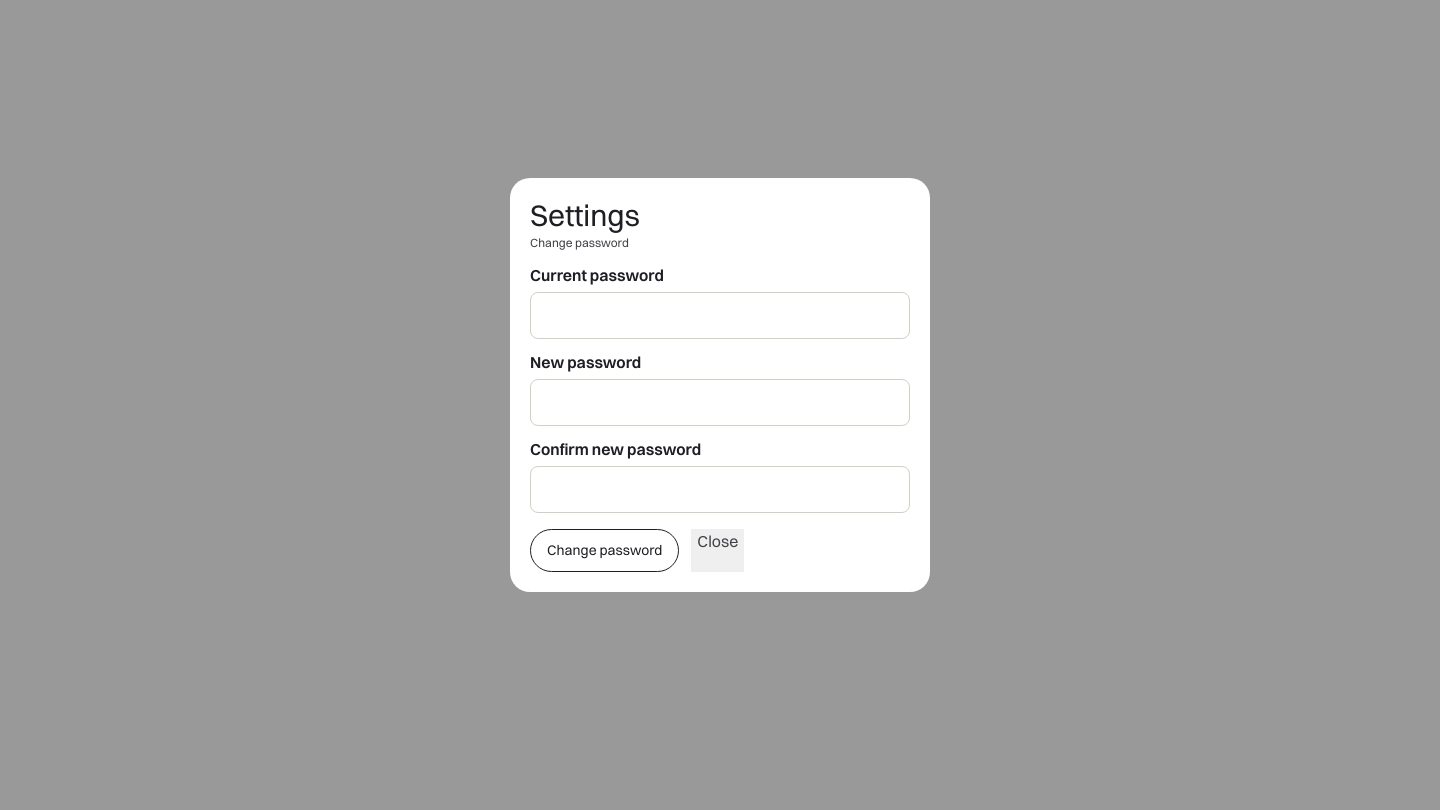
Test case: Settings — change password › confirms success
Type "old-pass" into the password field labelled "Current password" at (720, 315), box [530,292,910,339]
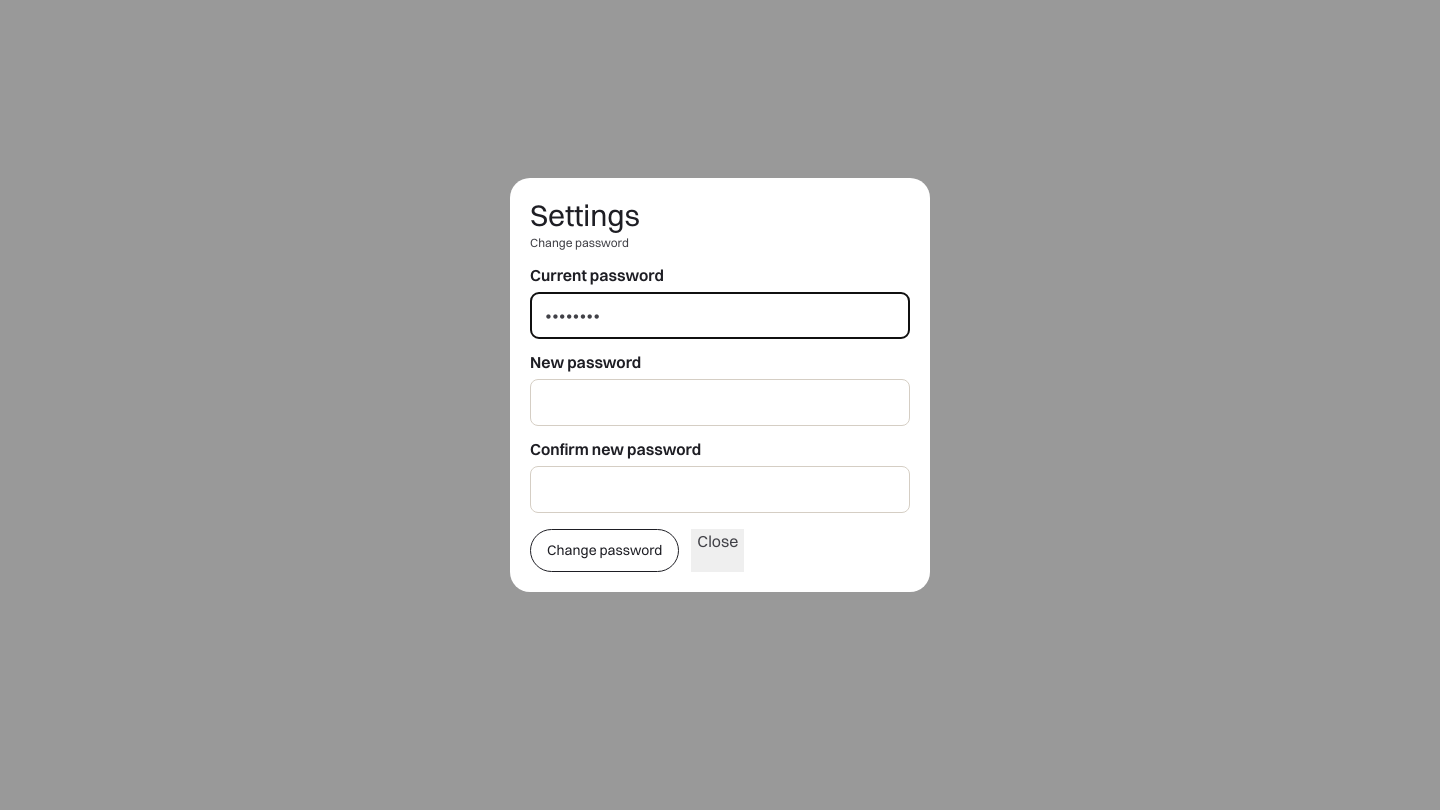
Type "brand new password" into the password field labelled "New password" at (720, 402), box [530,379,910,426]
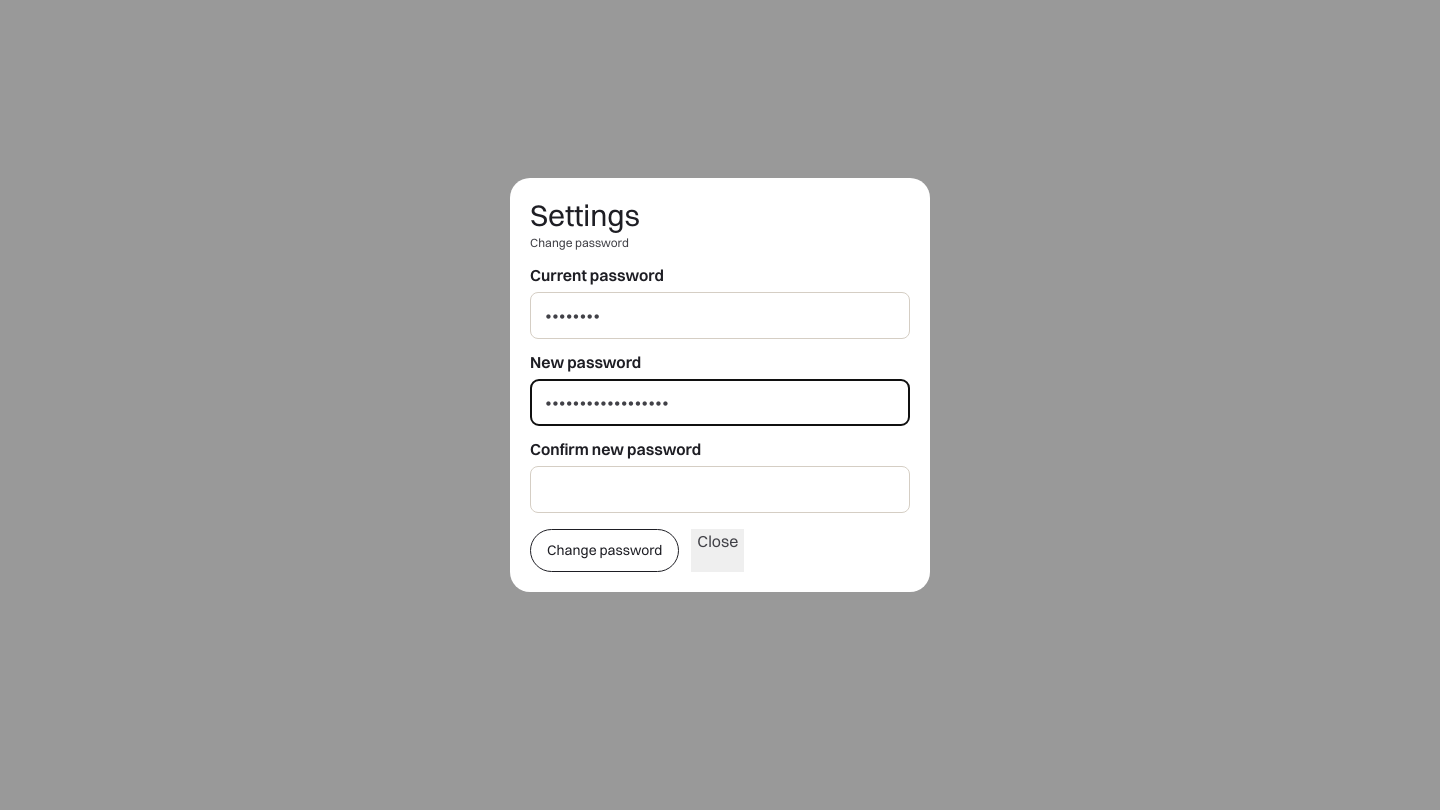
Type "brand new password" into the password field labelled "Confirm new password" at (720, 489), box [530,466,910,513]
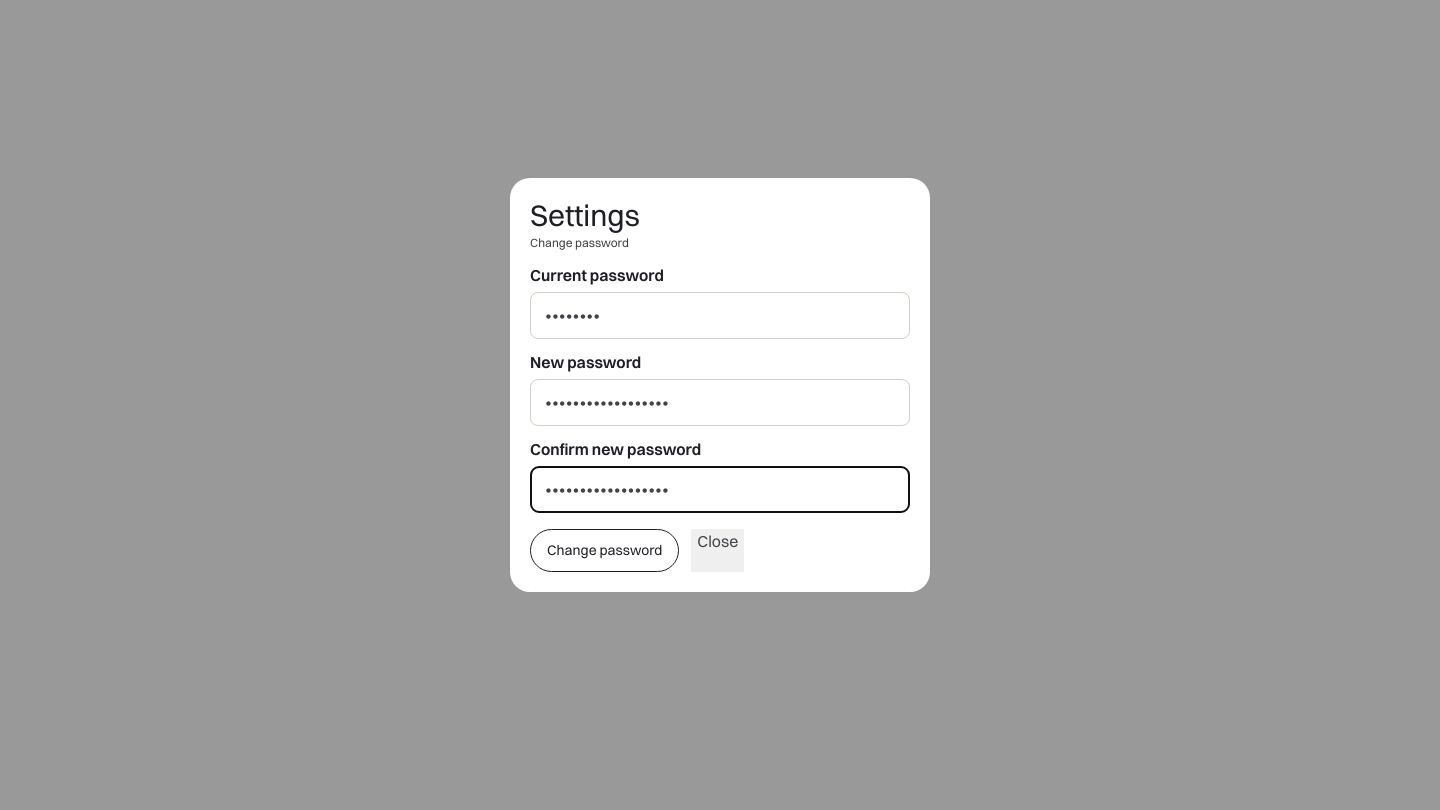
Click the button "Change password" at (605, 551), box [530,529,679,572]
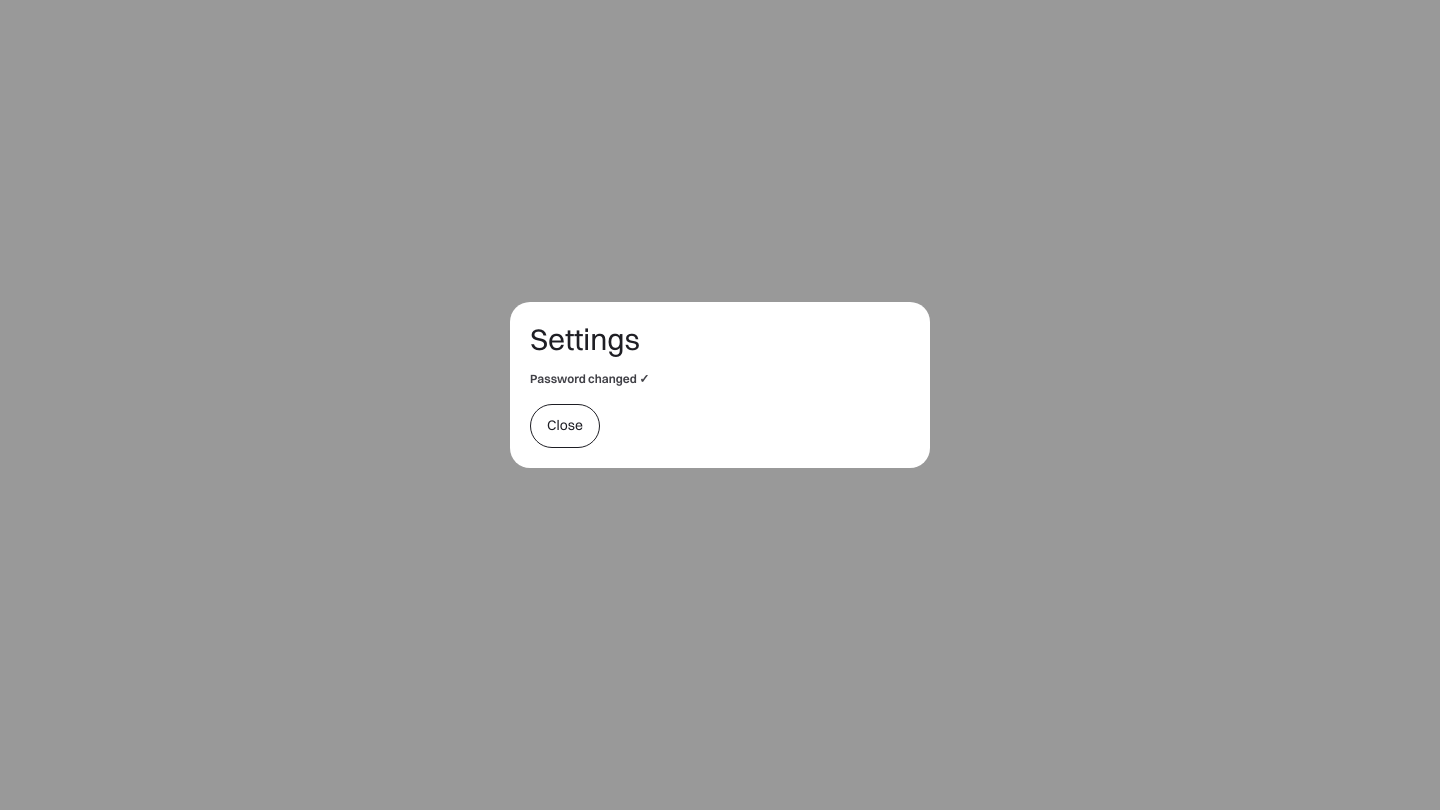
Expected: the message shows "Password changed", [530,371,649,386]
